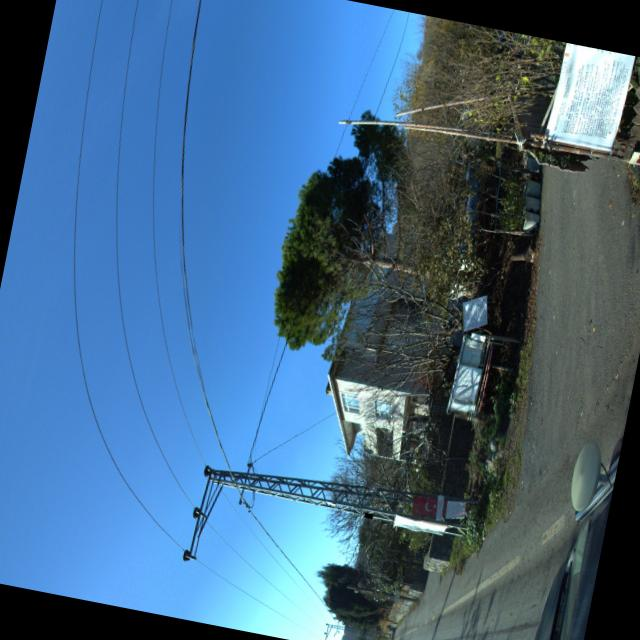Utility Pole Information Plate: (365, 512, 374, 517)
